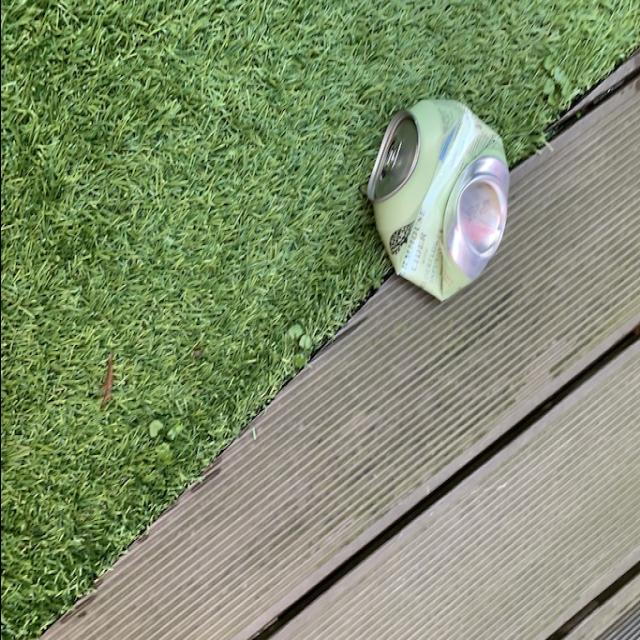Aluminum Can: (356, 103, 505, 305)
